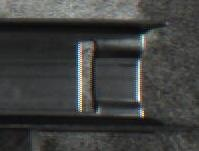press: (32, 14, 179, 134)
